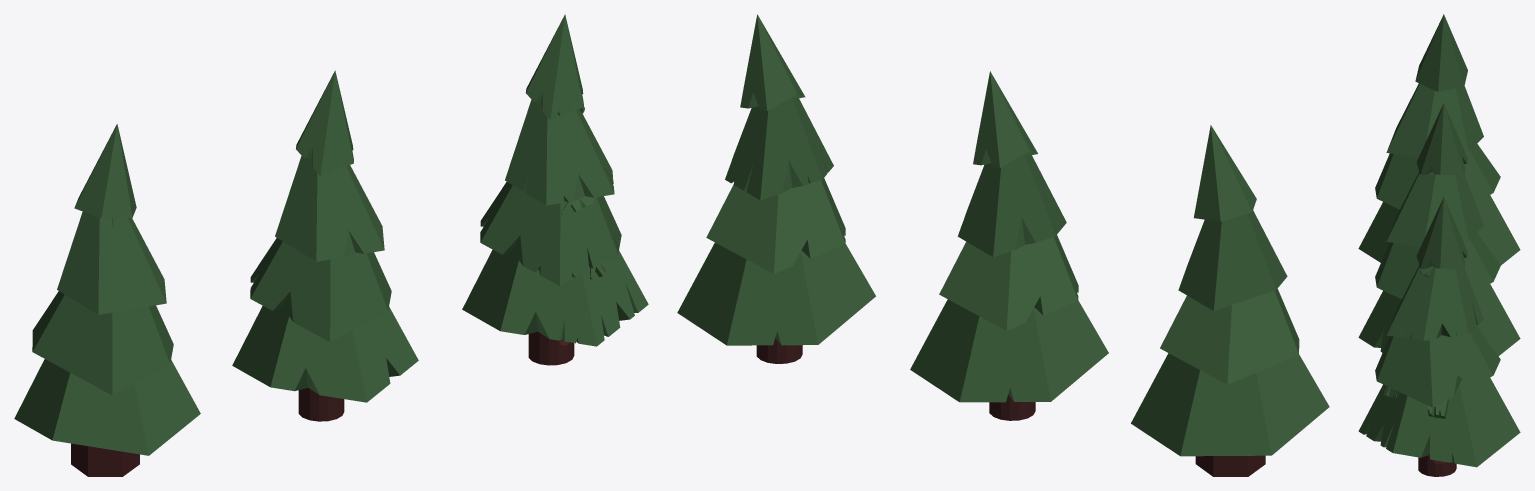
Rendered from 3trees.fbx.
The picture shows the model from 3 angles, left to right: view 1: azimuth 30°, elevation 25°; view 2: azimuth 150°, elevation 25°; view 3: azimuth 270°, elevation 25°; orthographic projection. The views are drawn at different scales.
Parts seen in each view (by area): view 1: Cone, Cone.007, Cone.008, Cone.001, Cone.006, Cone.009, Cone.002, Cone.005, Cone.010, Cone.004, Cone.011, Cone.003 (+3 smaller); view 2: Cone.008, Cone.007, Cone, Cone.001, Cone.006, Cone.009, Cone.005, Cone.010, Cone.002, Cone.003, Cone.011, Cone.004 (+3 smaller); view 3: Cone.008, Cone.009, Cone.010, Cone.005, Cone.002, Cone.006, Cone.007, Cone.001, Cone, Cone.003, Cone.004, Cone.011 (+2 smaller).
Boxes of the visible parts, left/top/right/bottom form: Cone: left=14, top=359, right=200, bottom=455; Cone.007: left=232, top=306, right=418, bottom=402; Cone.008: left=462, top=249, right=648, bottom=346; Cone.001: left=32, top=218, right=173, bottom=395; Cone.006: left=250, top=171, right=391, bottom=341; Cone.009: left=480, top=115, right=621, bottom=285; Cone.002: left=57, top=211, right=166, bottom=314; Cone.005: left=275, top=155, right=384, bottom=261; Cone.010: left=505, top=99, right=614, bottom=205; Cone.004: left=296, top=70, right=353, bottom=175; Cone.011: left=525, top=14, right=583, bottom=119; Cone.003: left=74, top=124, right=136, bottom=218; Cone.008: left=677, top=242, right=875, bottom=345; Cone.007: left=910, top=299, right=1108, bottom=402; Cone: left=1131, top=353, right=1329, bottom=456; Cone.001: left=1160, top=289, right=1299, bottom=384; Cone.006: left=939, top=235, right=1078, bottom=330; Cone.009: left=706, top=178, right=845, bottom=273; Cone.005: left=957, top=154, right=1066, bottom=256; Cone.010: left=725, top=97, right=833, bottom=200; Cone.002: left=1178, top=210, right=1287, bottom=310; Cone.003: left=1193, top=125, right=1256, bottom=221; Cone.011: left=740, top=14, right=805, bottom=110; Cone.004: left=973, top=71, right=1037, bottom=167; Cone.008: left=1358, top=378, right=1520, bottom=467; Cone.009: left=1375, top=326, right=1500, bottom=407; Cone.010: left=1386, top=265, right=1483, bottom=340; Cone.005: left=1386, top=172, right=1483, bottom=246; Cone.002: left=1386, top=83, right=1483, bottom=157; Cone.006: left=1375, top=232, right=1500, bottom=299; Cone.007: left=1358, top=284, right=1520, bottom=356; Cone.001: left=1375, top=144, right=1500, bottom=209; Cone: left=1358, top=195, right=1520, bottom=265; Cone.003: left=1415, top=14, right=1467, bottom=91; Cone.004: left=1416, top=103, right=1467, bottom=175; Cone.011: left=1416, top=197, right=1467, bottom=268.
Bounding box in the file's own units: 1998 × 1068 × 561.
